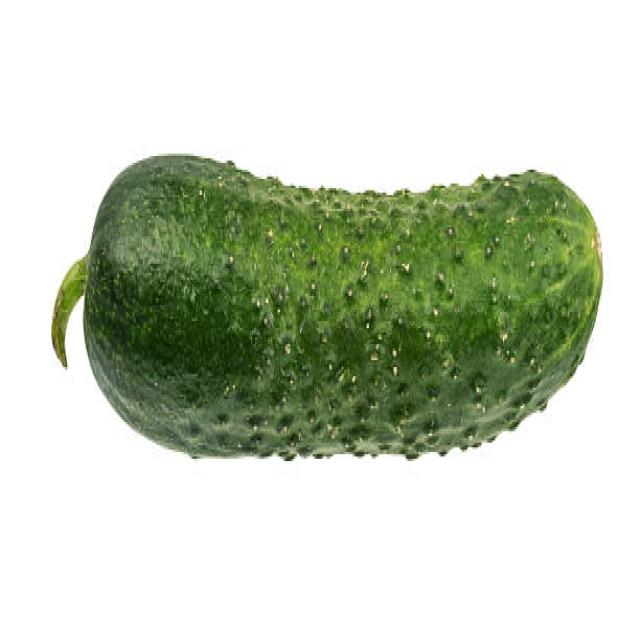cucumber: (84, 155, 604, 459)
